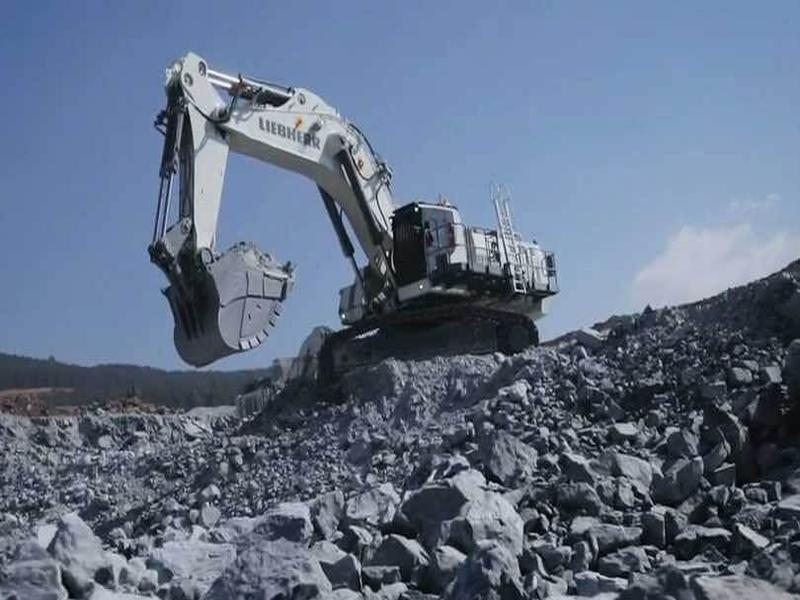shovel: (142, 49, 567, 364)
